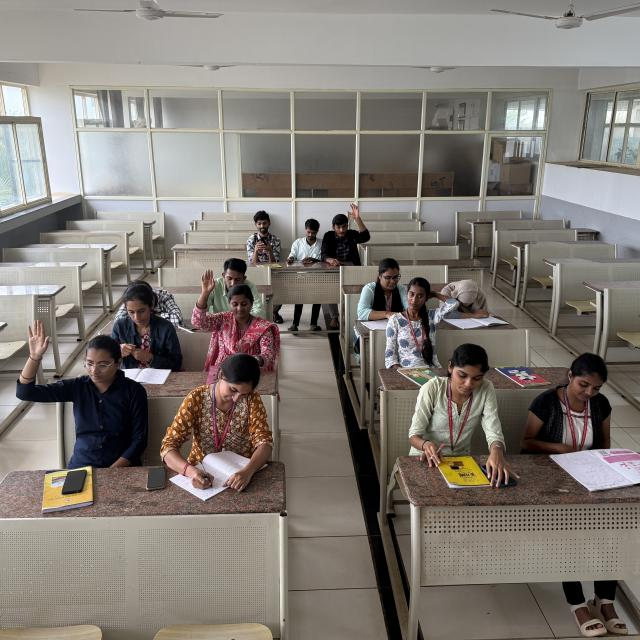Hand Rising: (12, 312, 152, 441), (196, 265, 276, 354), (324, 202, 371, 260)
Reading: (526, 346, 635, 476), (359, 255, 412, 331)
Sleeping: (110, 276, 186, 322), (435, 274, 493, 324)
Using Phone: (243, 211, 281, 263)
Writing: (175, 352, 282, 494), (283, 220, 323, 269)
